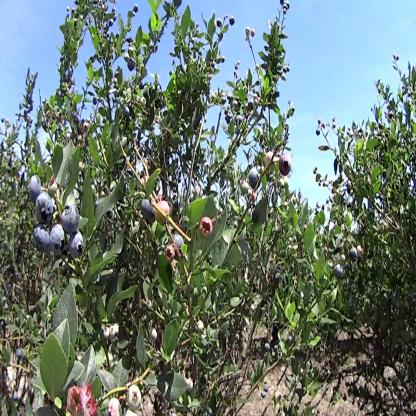intermediate: (68, 388, 96, 416), (156, 200, 171, 229), (199, 217, 214, 240), (164, 249, 176, 264), (264, 152, 274, 170)
mature: (61, 203, 81, 237), (37, 191, 54, 225), (49, 222, 66, 256), (33, 226, 52, 256), (67, 233, 87, 258), (29, 176, 45, 206), (141, 197, 157, 224), (173, 233, 188, 258), (249, 166, 263, 191), (279, 153, 292, 176), (351, 245, 360, 263), (336, 263, 344, 277)
young: (127, 385, 142, 412), (109, 397, 124, 416), (241, 179, 250, 196)
